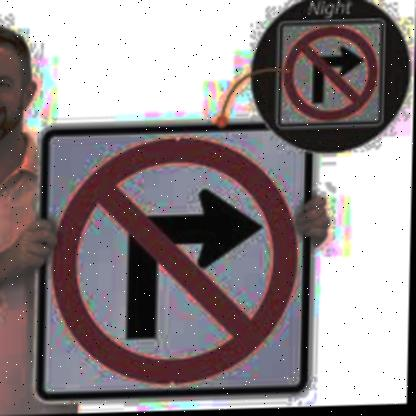No right turn: (44, 120, 307, 397), (284, 23, 391, 132)
